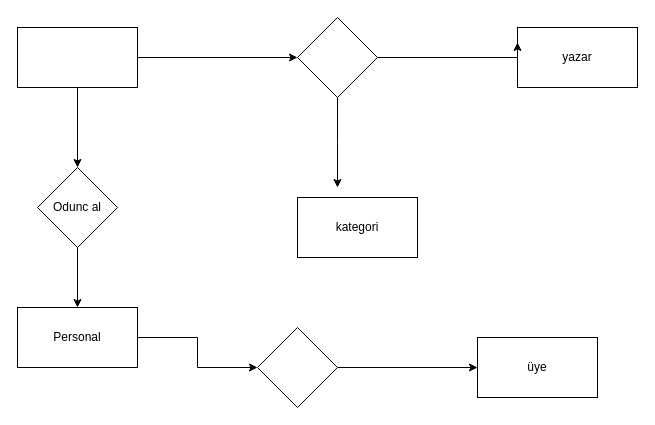
The diagram is 655 pixels wide and 425 high, and some of its shapes have lost their labels. Here are the shapes that lost their labels. From the top down, the centre of each, then its label:
(x=77, y=57): kitap
(x=337, y=57): Aittir
(x=297, y=367): Al
